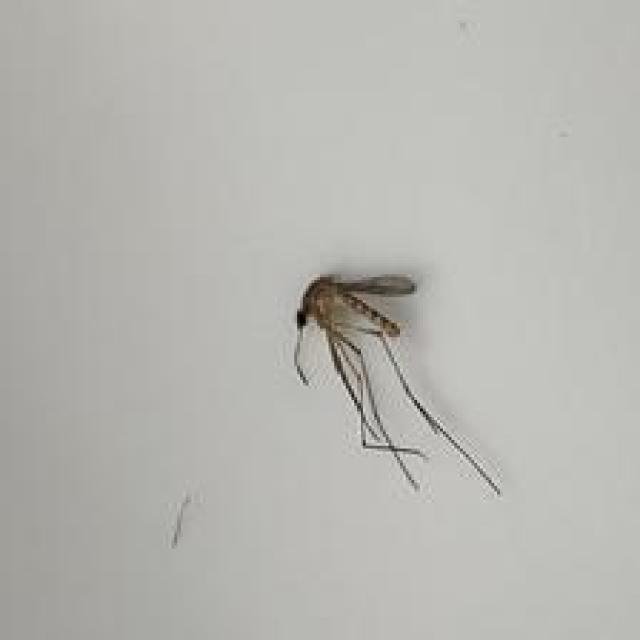Culex: (291, 272, 503, 497)
